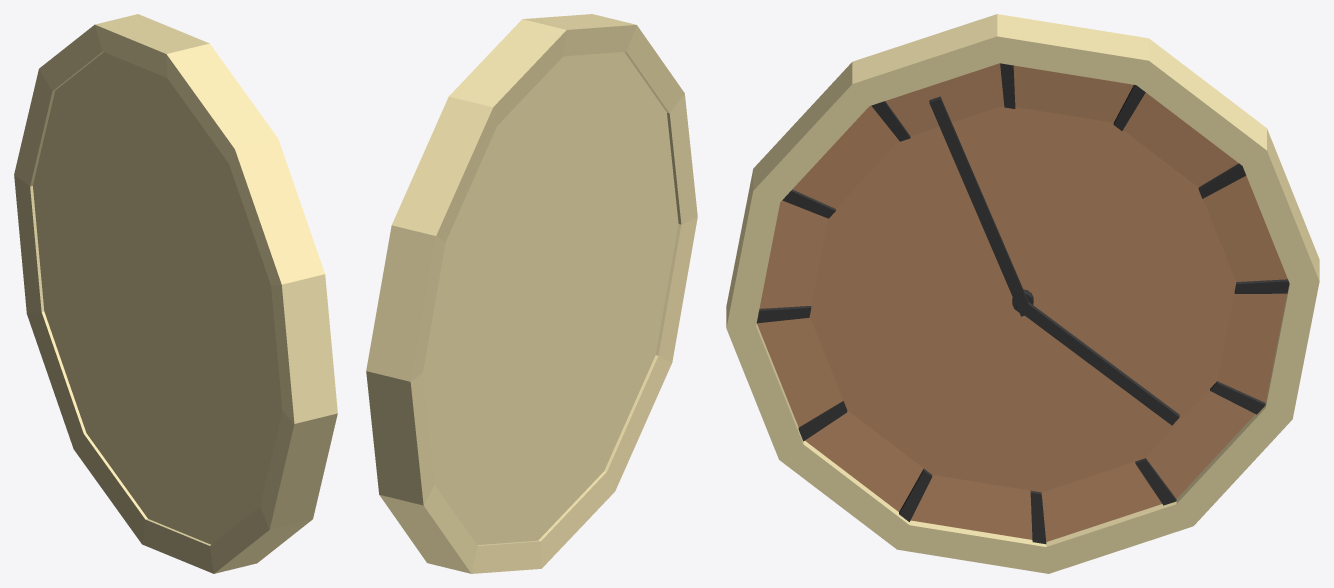
File: clock.fbx
3 renders of one model, left to right at view 1: azimuth 30°, elevation 25°; view 2: azimuth 150°, elevation 25°; view 3: azimuth 270°, elevation 25°, orthographic. The views are drawn at different scales.
Parts seen in each view (by area): view 1: Clock_212; view 2: Clock_212; view 3: Clock_212, ClockArm_210, ClockArm_001_211.
Part boxes in pixels (left/top/right/bottom): Clock_212: left=14, top=14, right=337, bottom=573; Clock_212: left=366, top=14, right=697, bottom=573; Clock_212: left=726, top=14, right=1319, bottom=573; ClockArm_210: left=929, top=96, right=1031, bottom=316; ClockArm_001_211: left=1016, top=302, right=1179, bottom=425.
Size of the model in its own units: 4.44 by 47.55 by 47.55.
